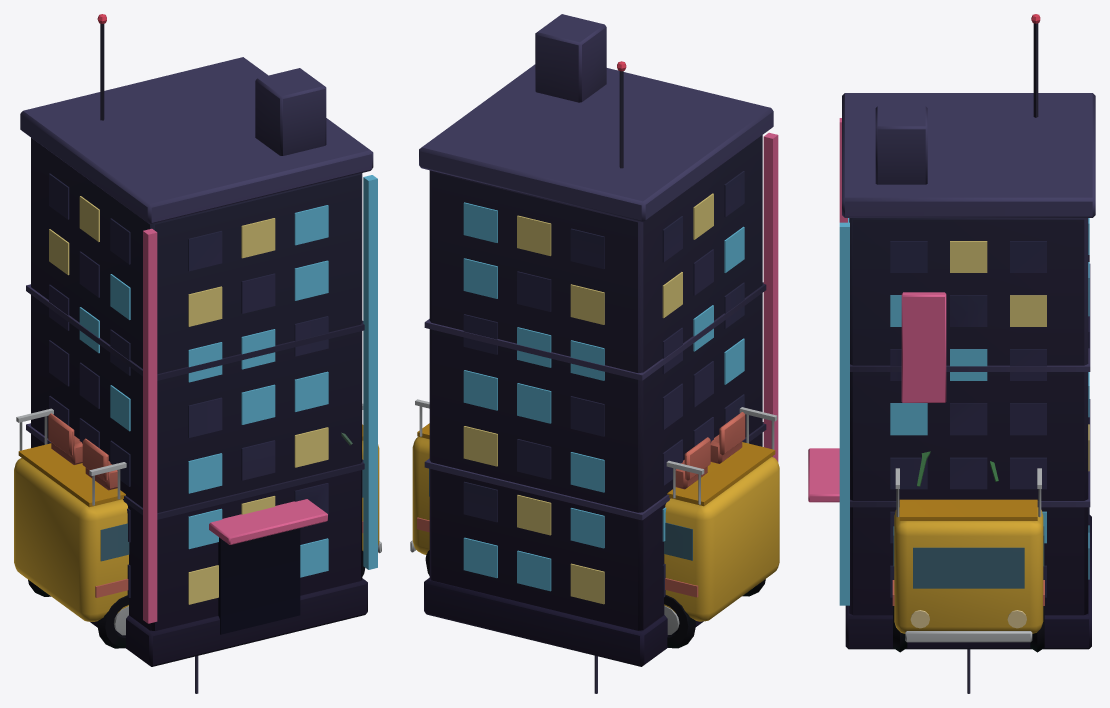
Rendered from kit-notteneon.glb.
3 renders of one model, left to right at view 1: azimuth 30°, elevation 25°; view 2: azimuth 150°, elevation 25°; view 3: azimuth 270°, elevation 25°, orthographic. The views are drawn at different scales.
Visible parts, largest first — view 1: edificio-neon, oro-bus; view 2: edificio-neon, oro-bus; view 3: edificio-neon, oro-bus.
Part boxes in pixels (box(x1,y1,x2,y2)): edificio-neon: box(20, 14, 377, 666); oro-bus: box(14, 403, 381, 648); edificio-neon: box(419, 14, 778, 666); oro-bus: box(410, 399, 779, 648); edificio-neon: box(808, 14, 1095, 649); oro-bus: box(892, 468, 1044, 652).
Size of the model in its own units: 4.56 by 9.62 by 3.85.
